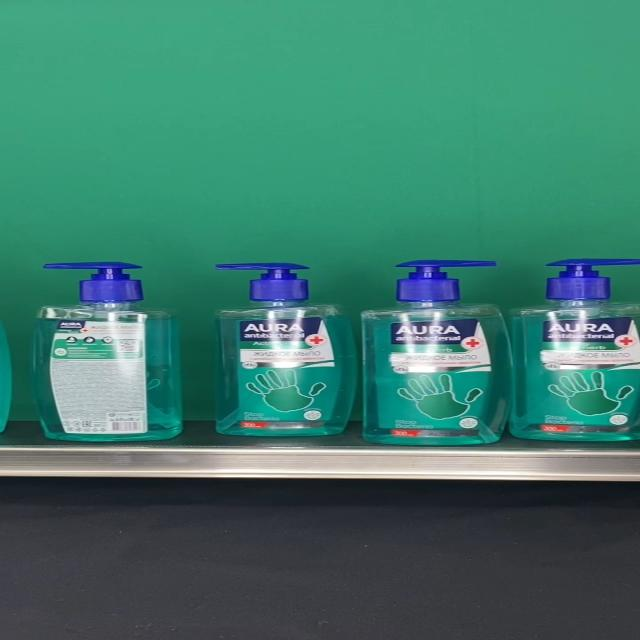Bottle: (360, 260, 513, 446), (32, 262, 183, 441), (214, 262, 360, 436), (509, 256, 640, 442)
Cap: (396, 260, 498, 302), (545, 257, 640, 301), (44, 262, 143, 302), (214, 262, 310, 300)
